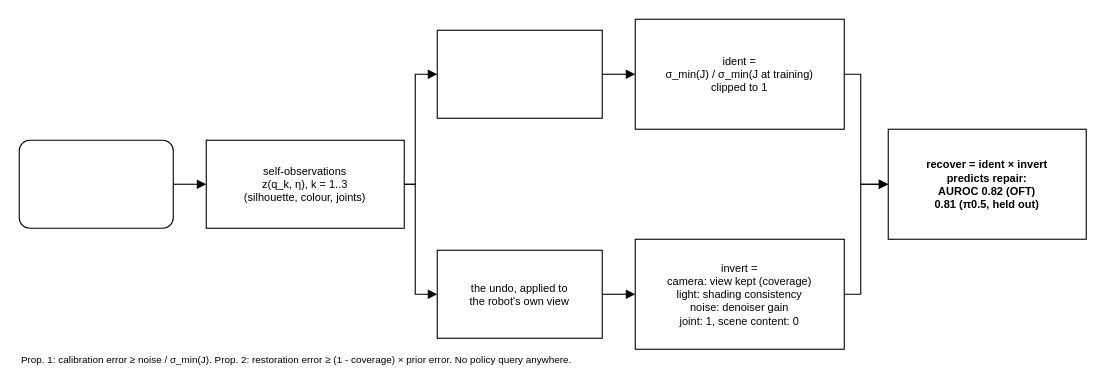
Some shapes in this 1106 by 391 pixel diagram are drawn without their labels. The shapes that lost their labels are listed below. From the top down, each one's centre as x and y in pixels, then its label:
At (x=519, y=73): "Jacobian J = dz / dη (finite differences)".
At (x=95, y=183): "nuisance η (camera pose, light, joint offset, noise)".
